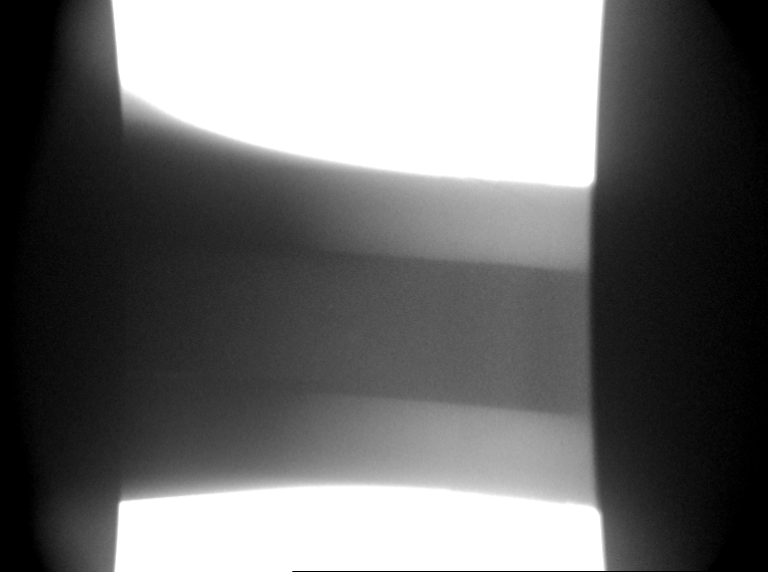defect: (340, 324, 373, 348)
